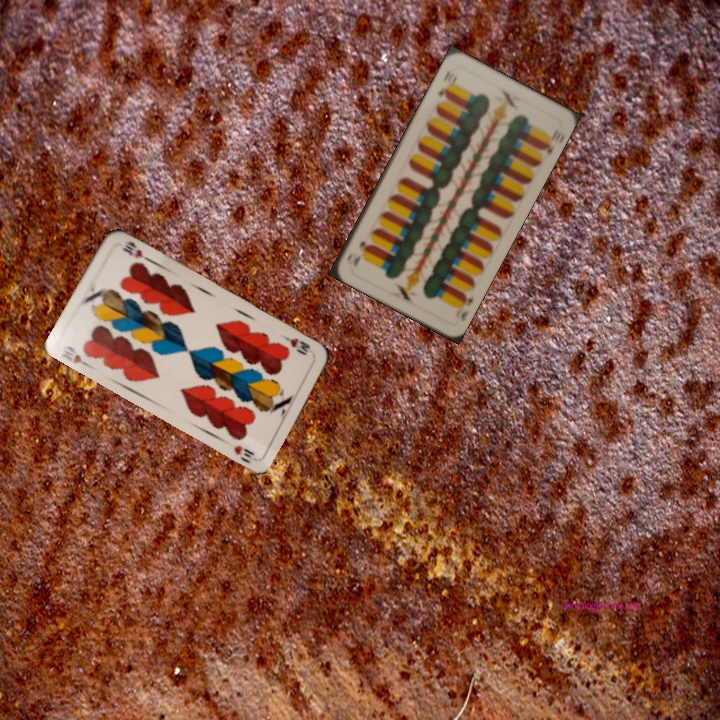E10: (456, 289, 476, 325), (434, 68, 456, 100)
H10: (58, 342, 93, 370), (280, 332, 313, 358)
